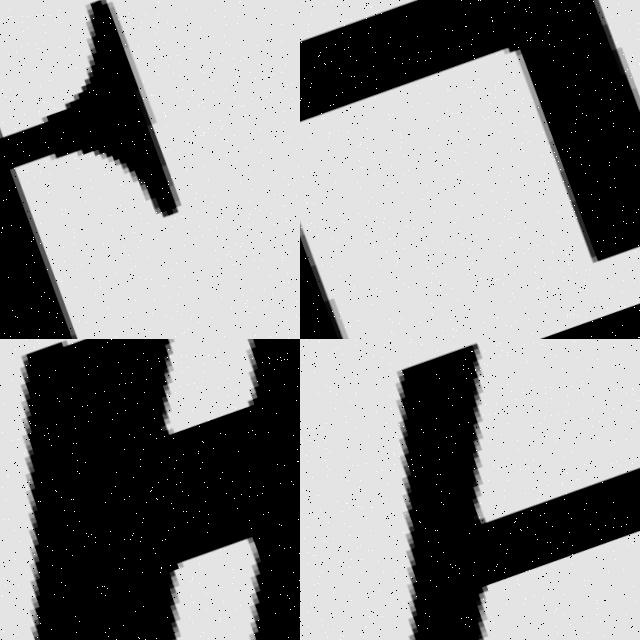F: (0, 0, 185, 339)
H: (300, 0, 640, 339), (300, 339, 640, 640), (30, 339, 300, 640)
